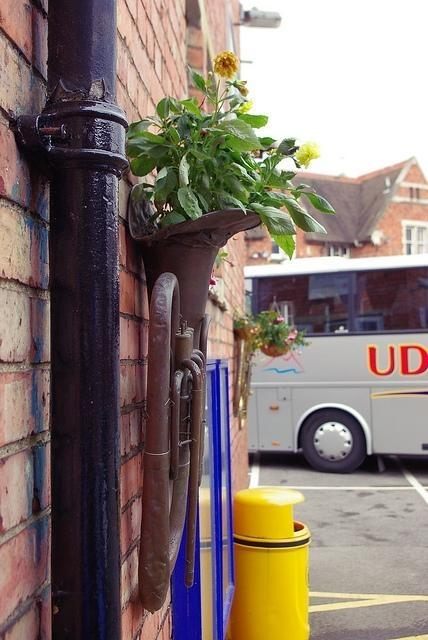bus: (246, 256, 428, 469)
